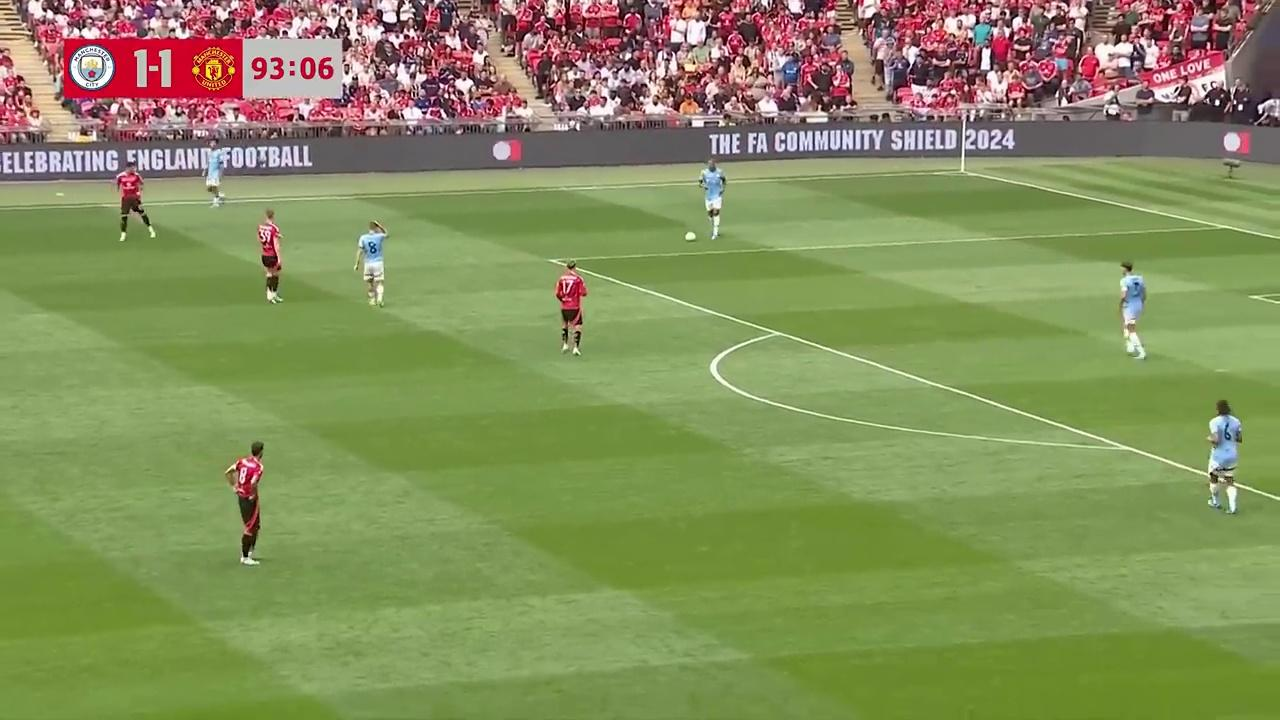ball: (683, 227, 697, 243)
player: (224, 442, 264, 565), (1206, 399, 1242, 513), (554, 262, 588, 355), (114, 164, 155, 241), (1117, 261, 1146, 359), (358, 221, 387, 306), (257, 209, 282, 304), (698, 161, 727, 239), (202, 152, 225, 208)
